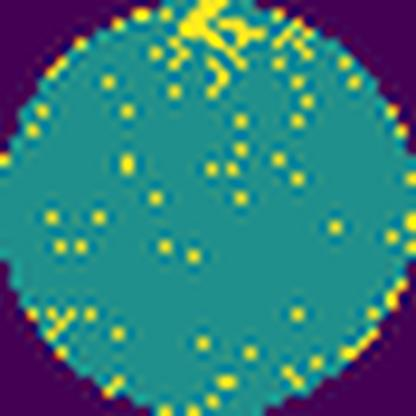Loc: (179, 0, 263, 65)
